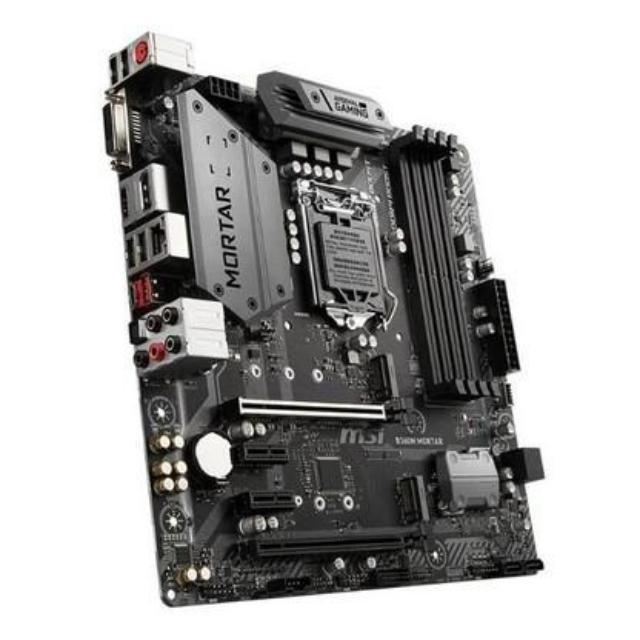Mainboard: (82, 21, 558, 616)
